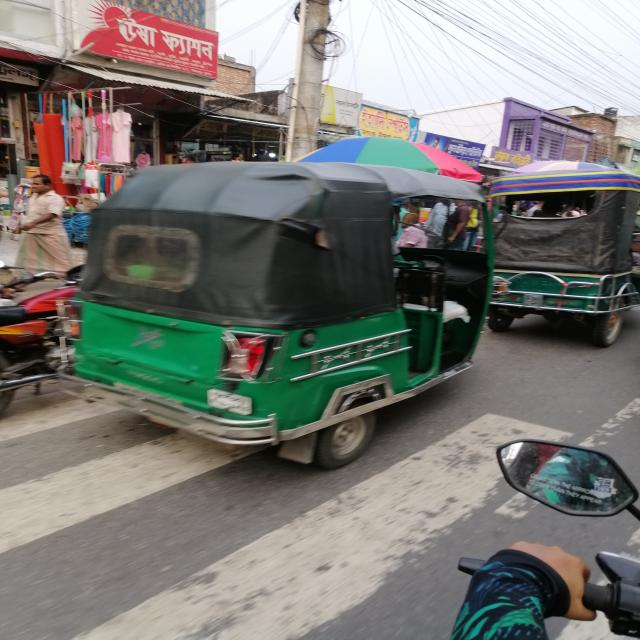CNG: (78, 159, 495, 464)
